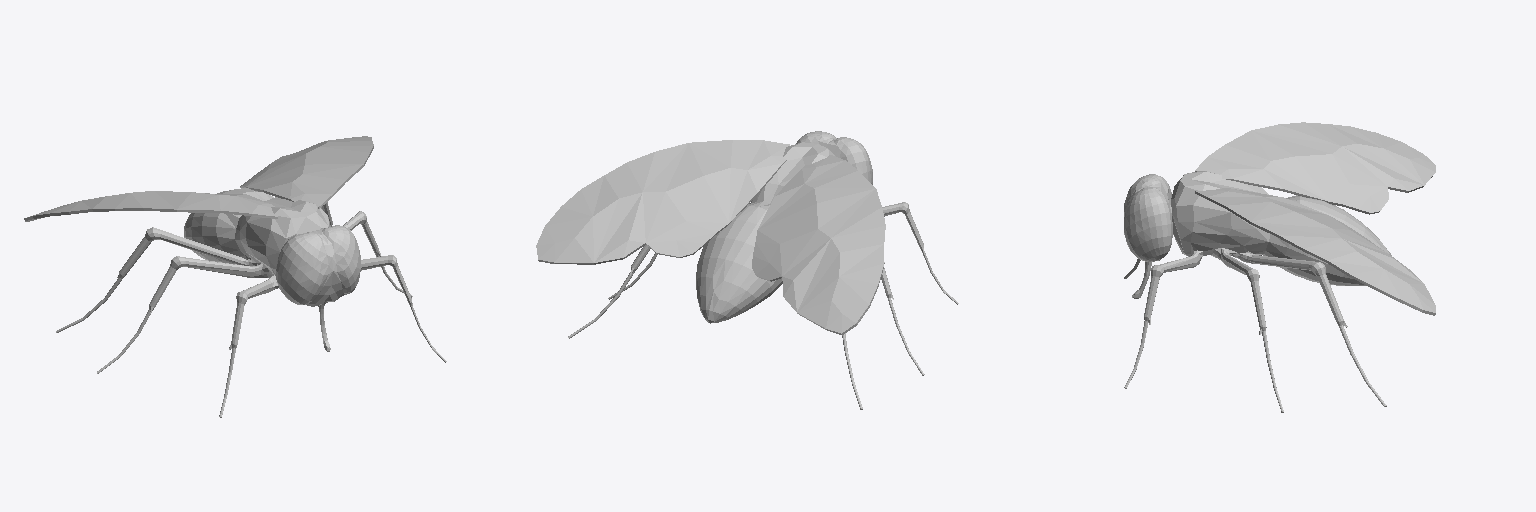
The model's file is biggerfly.obj.
3 renders of one model, left to right at view 1: azimuth 30°, elevation 25°; view 2: azimuth 150°, elevation 25°; view 3: azimuth 270°, elevation 25°, orthographic.
Visible parts, largest first — view 1: fly_body, fly_wing; view 2: fly_wing, fly_body; view 3: fly_wing, fly_body.
Part boxes in pixels (bbox=[...]): fly_body: bbox=[56, 188, 446, 417]; fly_wing: bbox=[24, 136, 373, 221]; fly_wing: bbox=[536, 140, 885, 335]; fly_body: bbox=[568, 131, 958, 409]; fly_wing: bbox=[1195, 122, 1435, 315]; fly_body: bbox=[1124, 171, 1391, 412].
Size of the model in its own units: 0.0632 by 0.0301 by 0.0528.